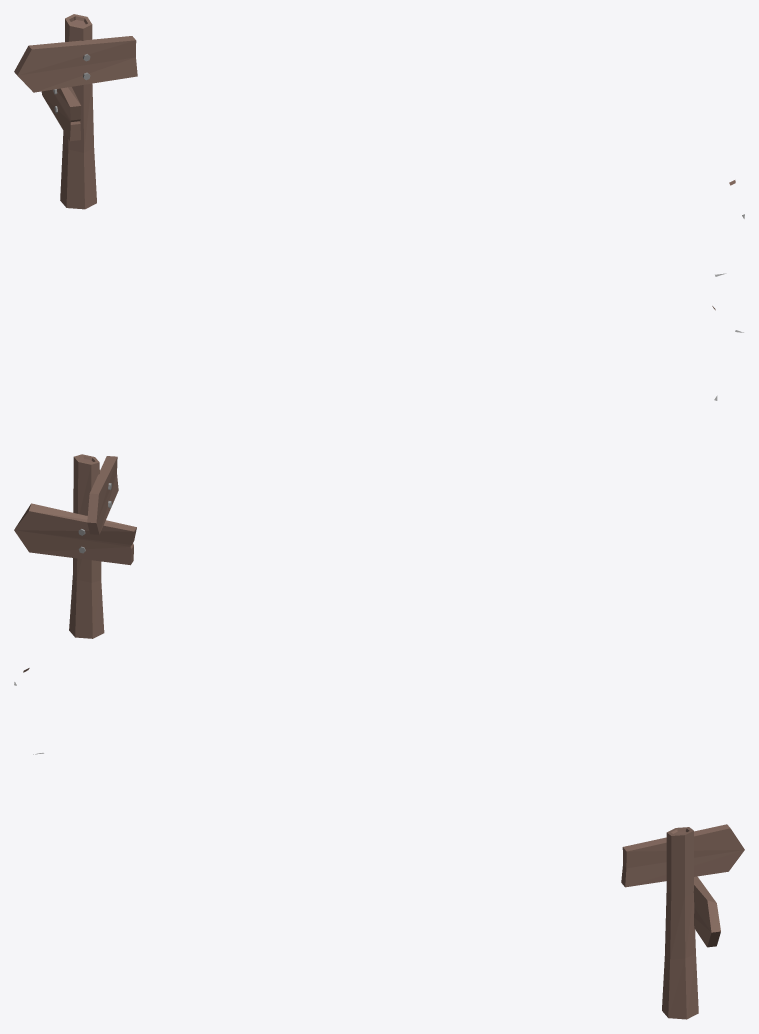
Rendered from sign.glb.
3 views of the same model, one above another, from view 1: azimuth 90°, elevation 25°; view 2: azimuth 150°, elevation 25°; view 3: azimuth 270°, elevation 25° (orthographic). The views are drawn at different scales.
Visible parts, largest first — view 1: rock02_Mesh_007_Base_0.1388; view 2: rock02_Mesh_007_Base_0.1388; view 3: rock02_Mesh_007_Base_0.1388.
Part boxes in pixels (x1,y1,x2,y2): rock02_Mesh_007_Base_0.1388: (14, 14, 137, 209); rock02_Mesh_007_Base_0.1388: (14, 454, 136, 638); rock02_Mesh_007_Base_0.1388: (621, 824, 744, 1019).
Bounding box in the file's own units: 2.81 × 1.18 × 4.29.
1 material, 1 textured.
